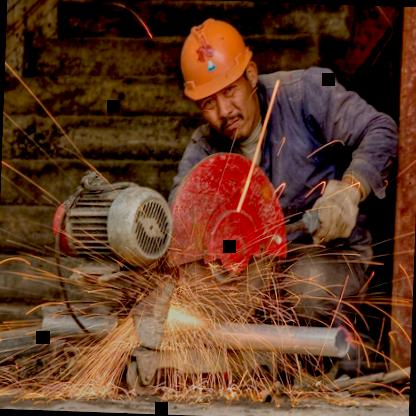helmet: (166, 7, 270, 144)
